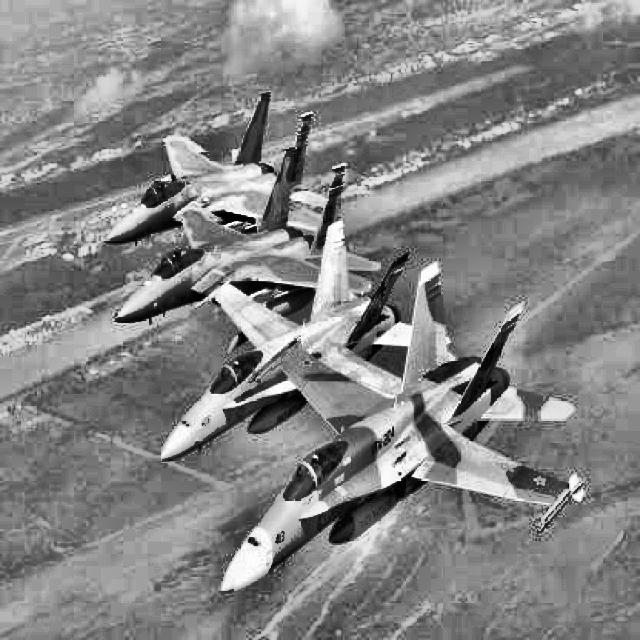F15: (112, 146, 380, 325), (103, 91, 329, 246)
F18: (220, 259, 588, 595), (157, 219, 452, 463)
